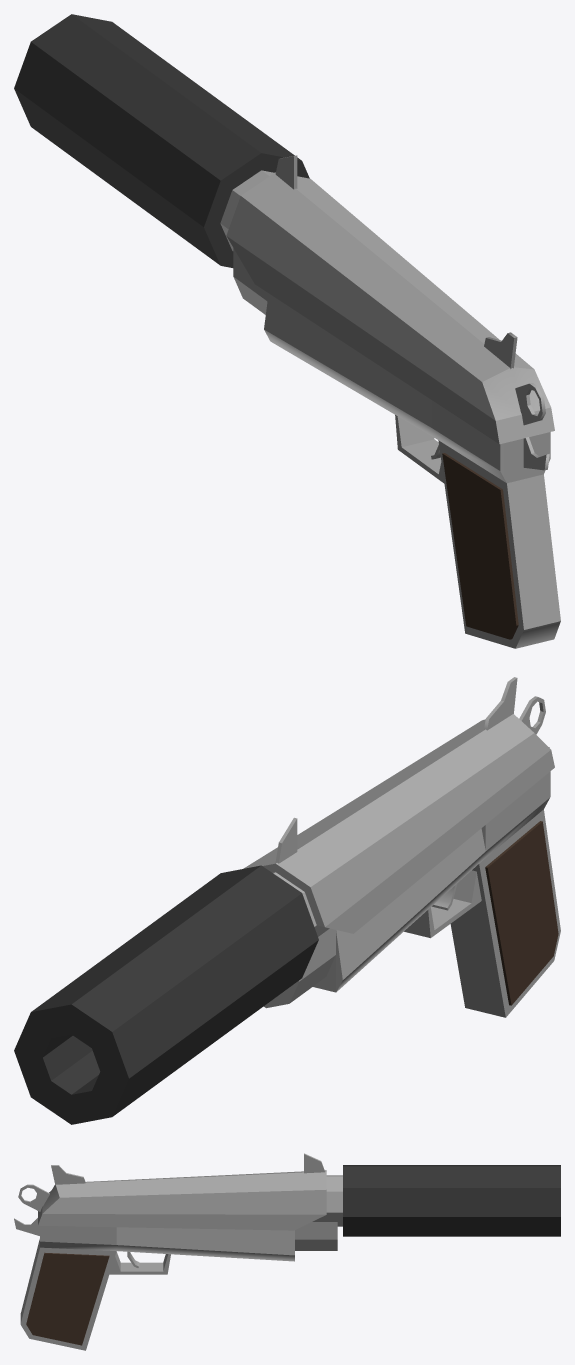
Rendered from pistol.fbx.
3 views of the same model, one above another, from view 1: azimuth 30°, elevation 25°; view 2: azimuth 150°, elevation 25°; view 3: azimuth 270°, elevation 25° (orthographic). The views are drawn at different scales.
Visible parts, largest first — view 1: pistol_slide, pistol_suppressor, pistol_base, pistol_finger_protector, pistol_underbarrel, pistol_barrel, pistol_hammer; view 2: pistol_suppressor, pistol_slide, pistol_base, pistol_finger_protector, pistol_underbarrel, pistol_rear_sight, pistol_front_sight; view 3: pistol_suppressor, pistol_slide, pistol_base, pistol_underbarrel, pistol_barrel, pistol_finger_protector, pistol_hammer, pistol_rear_sight, pistol_front_sight, pistol_grip_thing.
Part boxes in pixels (x1=…): pistol_slide: x1=226, y1=172, x2=554, y2=444; pistol_suppressor: x1=14, y1=14, x2=309, y2=267; pistol_base: x1=264, y1=293, x2=560, y2=648; pistol_finger_protector: x1=395, y1=415, x2=444, y2=483; pistol_underbarrel: x1=233, y1=248, x2=268, y2=314; pistol_barrel: x1=220, y1=170, x2=274, y2=250; pistol_hammer: x1=515, y1=383, x2=545, y2=425; pistol_suppressor: x1=14, y1=865, x2=318, y2=1124; pistol_slide: x1=243, y1=714, x2=554, y2=933; pistol_base: x1=313, y1=771, x2=560, y2=1017; pistol_finger_protector: x1=404, y1=870, x2=481, y2=938; pistol_underbarrel: x1=264, y1=928, x2=336, y2=1008; pistol_rear_sight: x1=484, y1=677, x2=517, y2=730; pistol_front_sight: x1=275, y1=817, x2=297, y2=863; pistol_suppressor: x1=343, y1=1165, x2=560, y2=1236; pistol_slide: x1=38, y1=1170, x2=326, y2=1230; pistol_base: x1=20, y1=1226, x2=294, y2=1350; pistol_underbarrel: x1=295, y1=1222, x2=337, y2=1250; pistol_barrel: x1=312, y1=1175, x2=342, y2=1226; pistol_finger_protector: x1=109, y1=1251, x2=170, y2=1274; pistol_hammer: x1=18, y1=1184, x2=49, y2=1211; pistol_rear_sight: x1=51, y1=1165, x2=85, y2=1184; pistol_front_sight: x1=304, y1=1153, x2=324, y2=1173; pistol_grip_thing: x1=14, y1=1218, x2=39, y2=1235.
Bounding box in the file's own units: 0.35 × 0.97 × 2.51.
